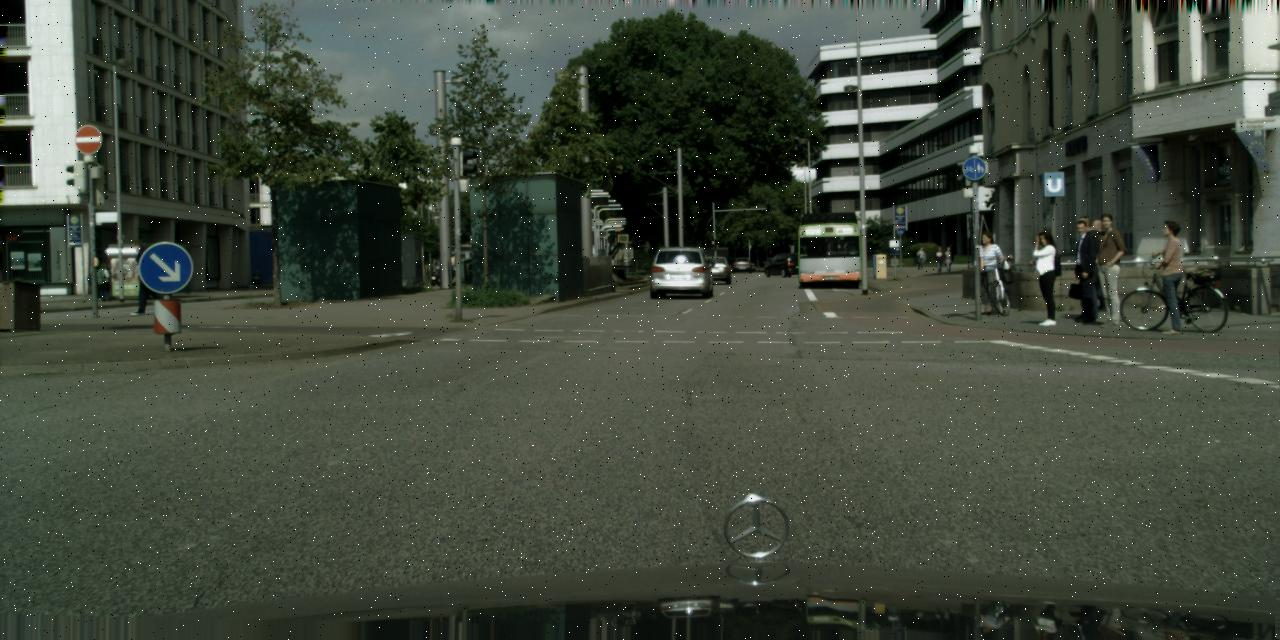ped: (1086, 213, 1132, 327), (1151, 220, 1196, 332), (1065, 215, 1107, 319), (1062, 220, 1104, 322), (1028, 230, 1066, 324), (1080, 220, 1116, 311), (970, 231, 1003, 313), (131, 239, 160, 311), (96, 263, 112, 302), (943, 246, 954, 273), (934, 246, 944, 273), (916, 247, 925, 269)
